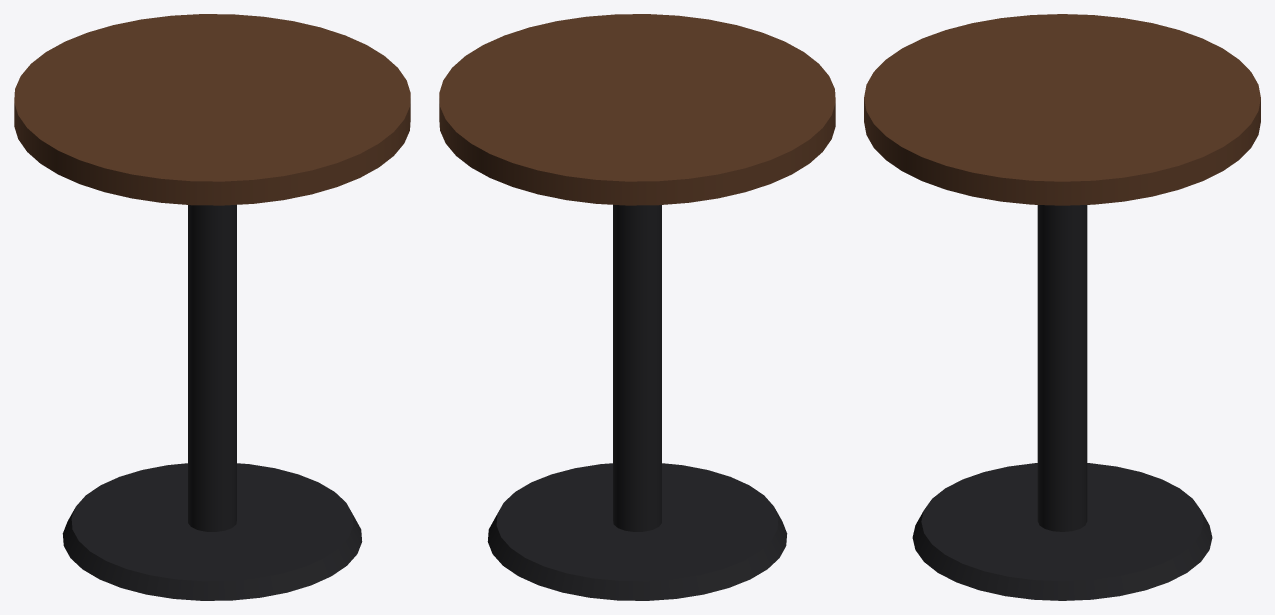
The model's file is side-table.glb.
3 renders of one model, left to right at view 1: azimuth 30°, elevation 25°; view 2: azimuth 150°, elevation 25°; view 3: azimuth 270°, elevation 25°, orthographic.
Parts seen in each view (by area): view 1: Side table; view 2: Side table; view 3: Side table.
Boxes of the visible parts, x1=… form: Side table: x1=14, y1=14, x2=410, y2=600; Side table: x1=439, y1=14, x2=835, y2=600; Side table: x1=864, y1=14, x2=1260, y2=600.
Size of the model in its own units: 0.45 by 0.55 by 0.45.
